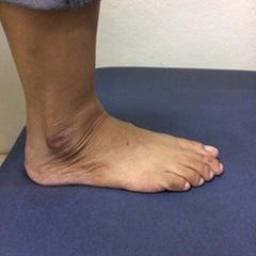Lateral View -Right Foot-: (19, 96, 233, 207)
